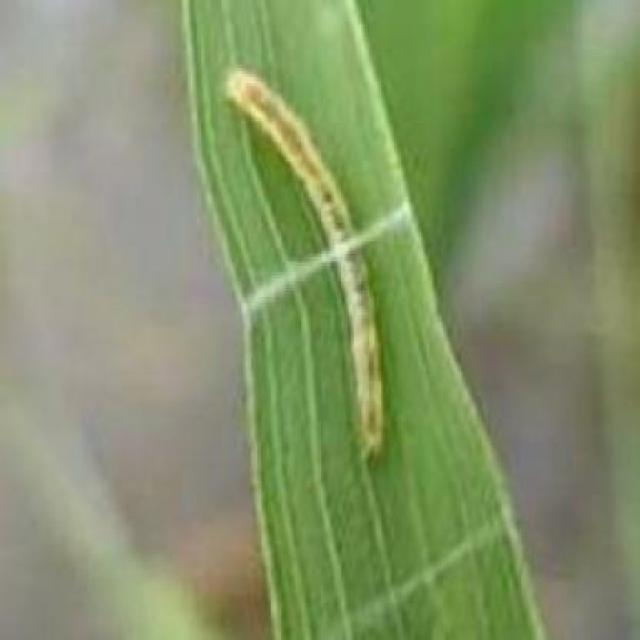leaf-folder: (212, 37, 468, 480)
